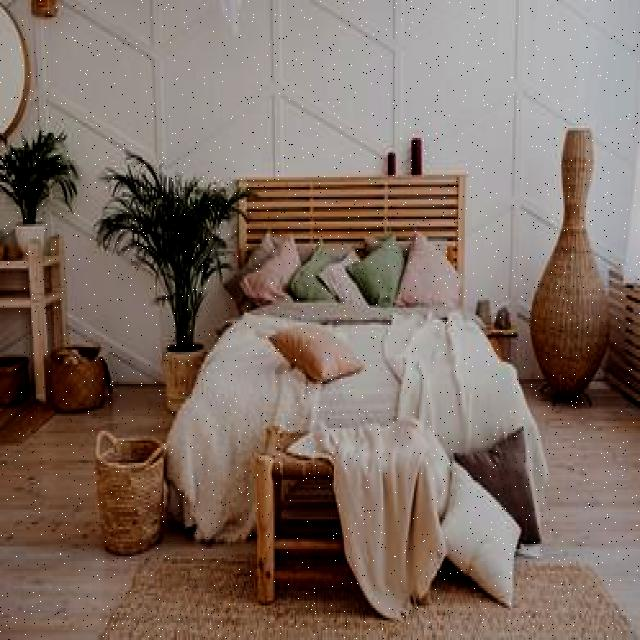bed: (171, 230, 545, 454)
